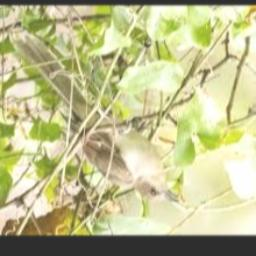Cuckoo: (13, 34, 178, 204)
